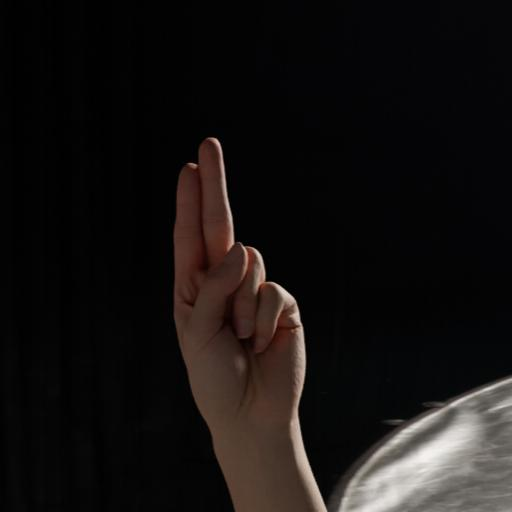U: (172, 132, 314, 442)
